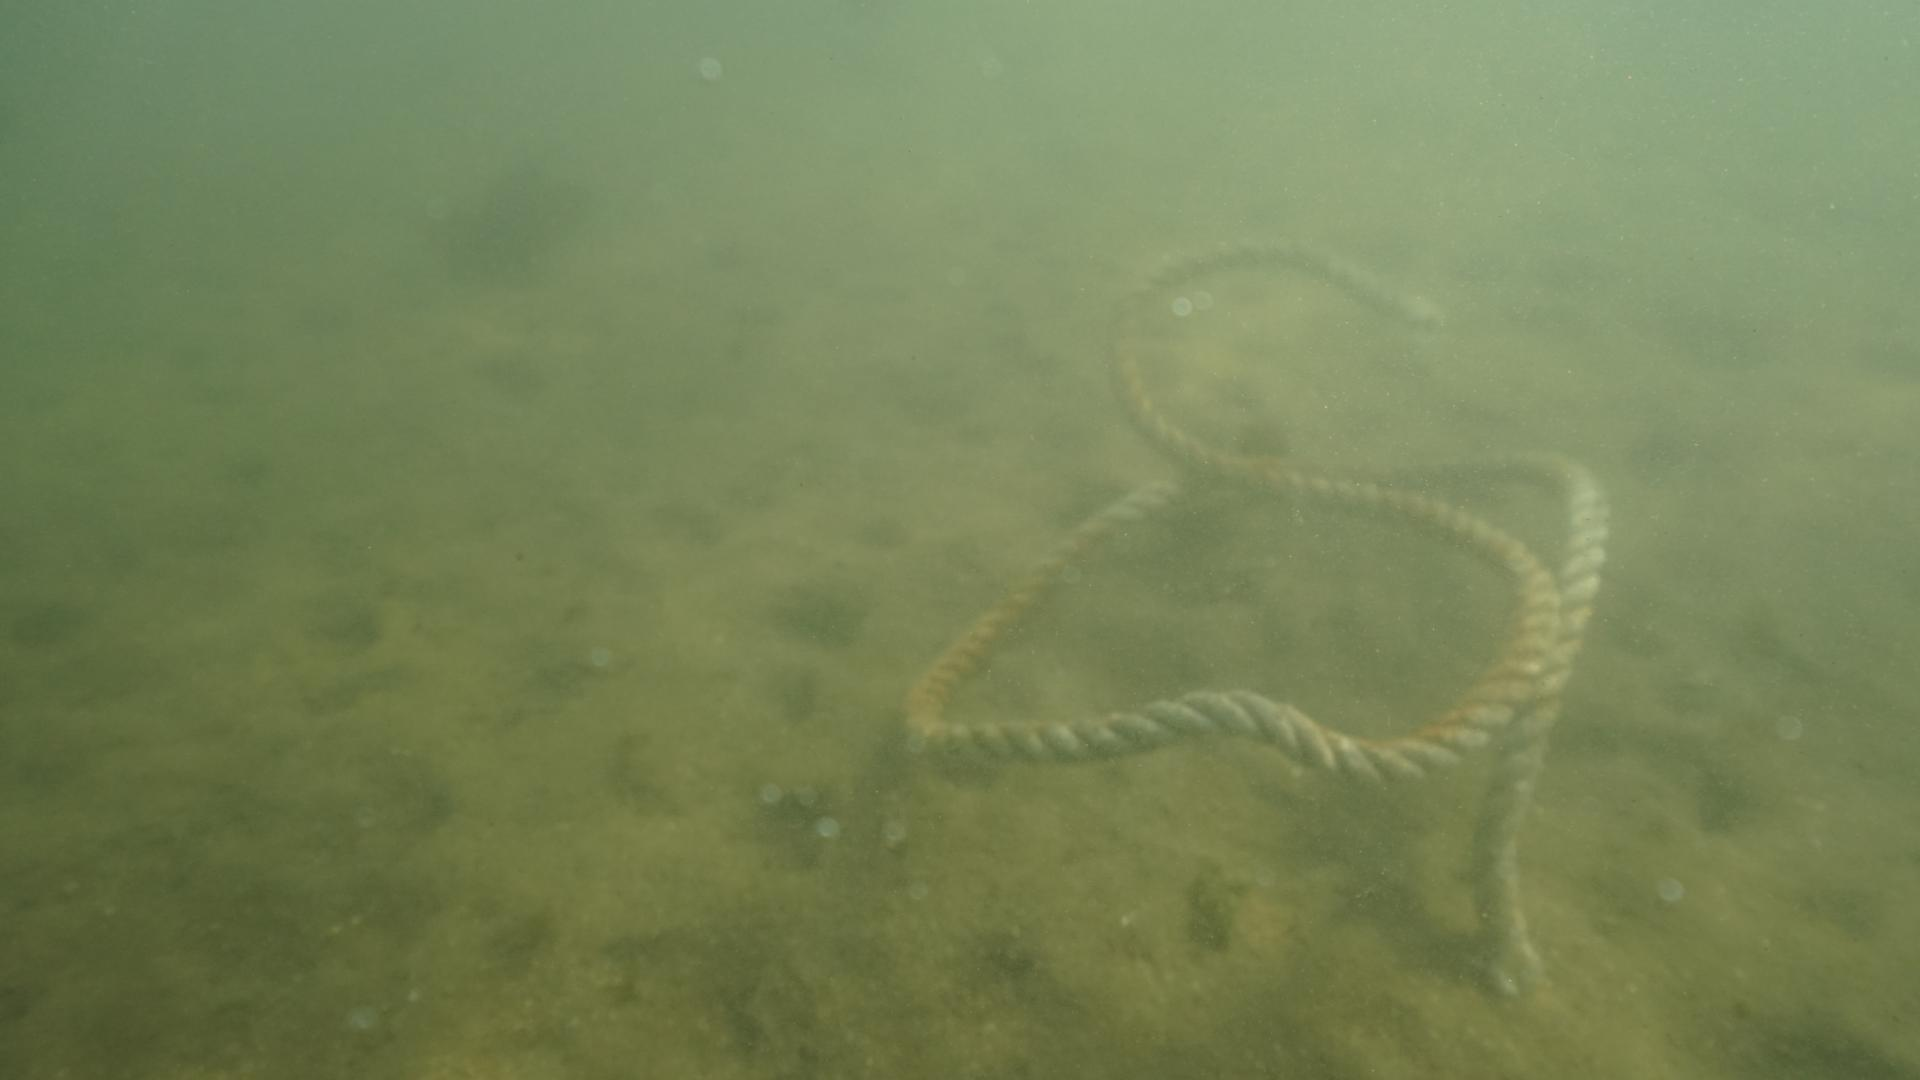rope: (901, 222, 1621, 1019)
